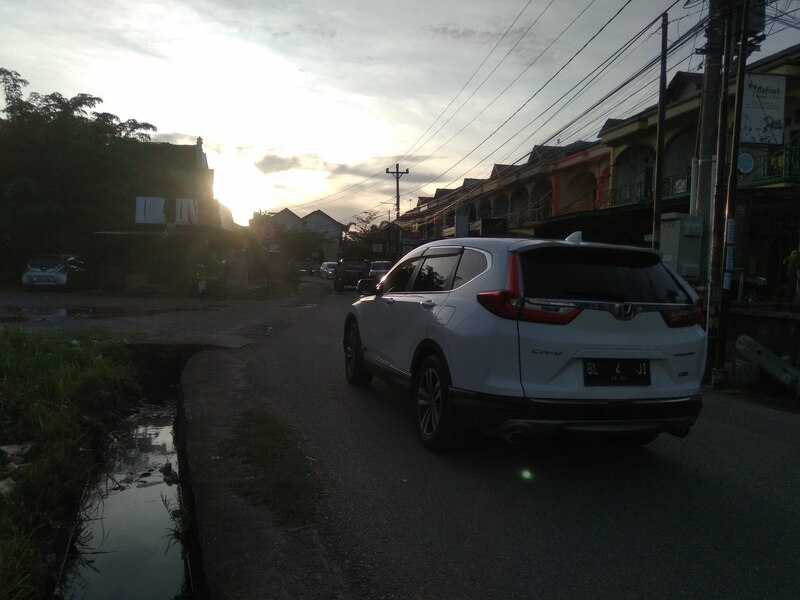car: (341, 227, 714, 463), (19, 251, 92, 295)
